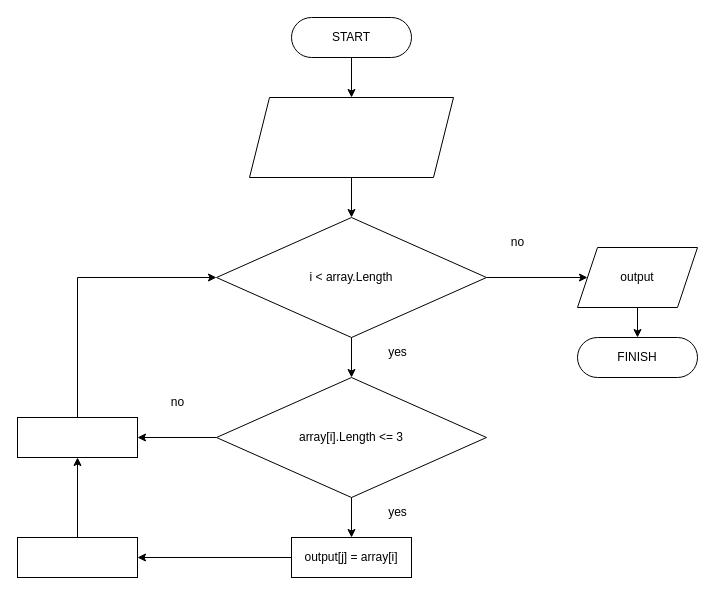
Some shapes in this 715 by 595 pixel diagram are drawn without their labels. Each missing label, with the centre of its shape:
"i++" goes at [77,437].
"j++" goes at [77,557].
"string[] array; string[] output; int i = 0; int j = 0;" goes at [351,137].
